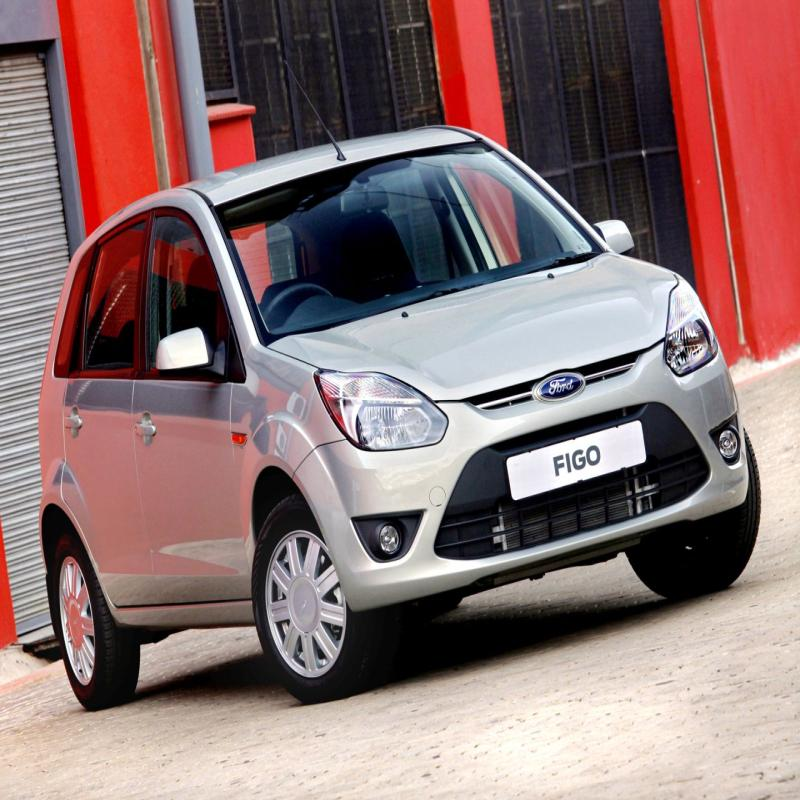car: (19, 161, 757, 640)
